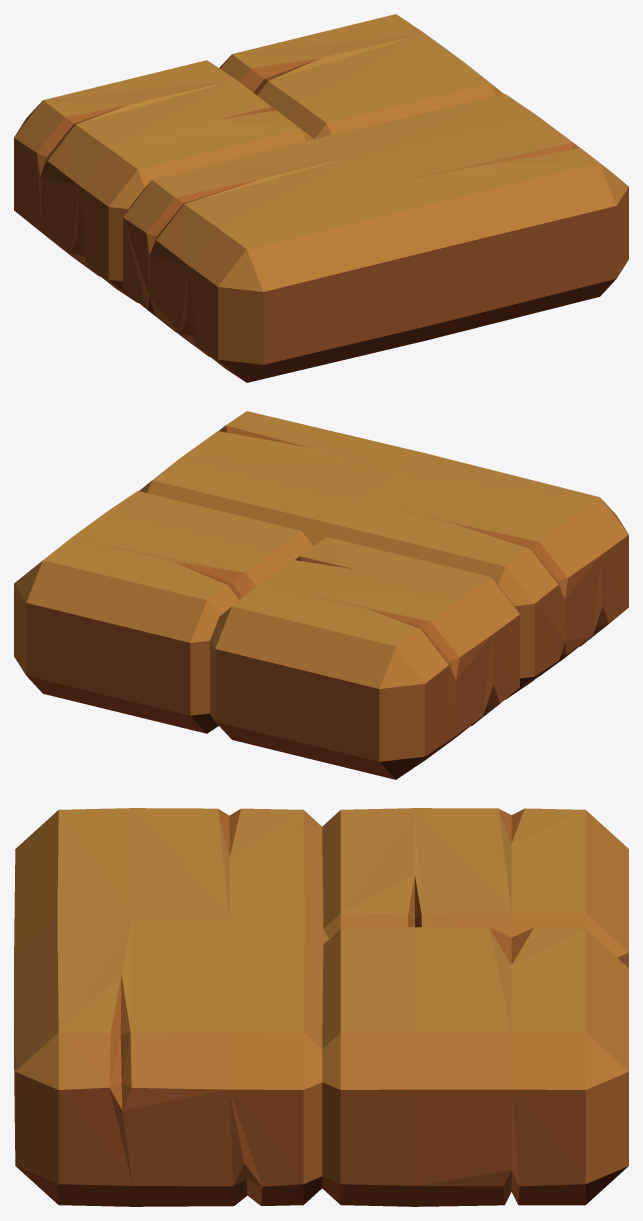
File: m_kub_wood_floorMixed.FBX
The picture shows the model from 3 angles, top to bottom: view 1: azimuth 30°, elevation 25°; view 2: azimuth 150°, elevation 25°; view 3: azimuth 270°, elevation 25°; orthographic projection. The views are drawn at different scales.
Visible parts, largest first — view 1: m_kub_wood_floorMixed; view 2: m_kub_wood_floorMixed; view 3: m_kub_wood_floorMixed.
Part boxes in pixels (box(x1,y1,x2,y2)): m_kub_wood_floorMixed: box(14, 14, 628, 382); m_kub_wood_floorMixed: box(14, 411, 628, 779); m_kub_wood_floorMixed: box(14, 808, 628, 1206).
Size of the model in its own units: 2.2 by 0.7 by 2.18.
